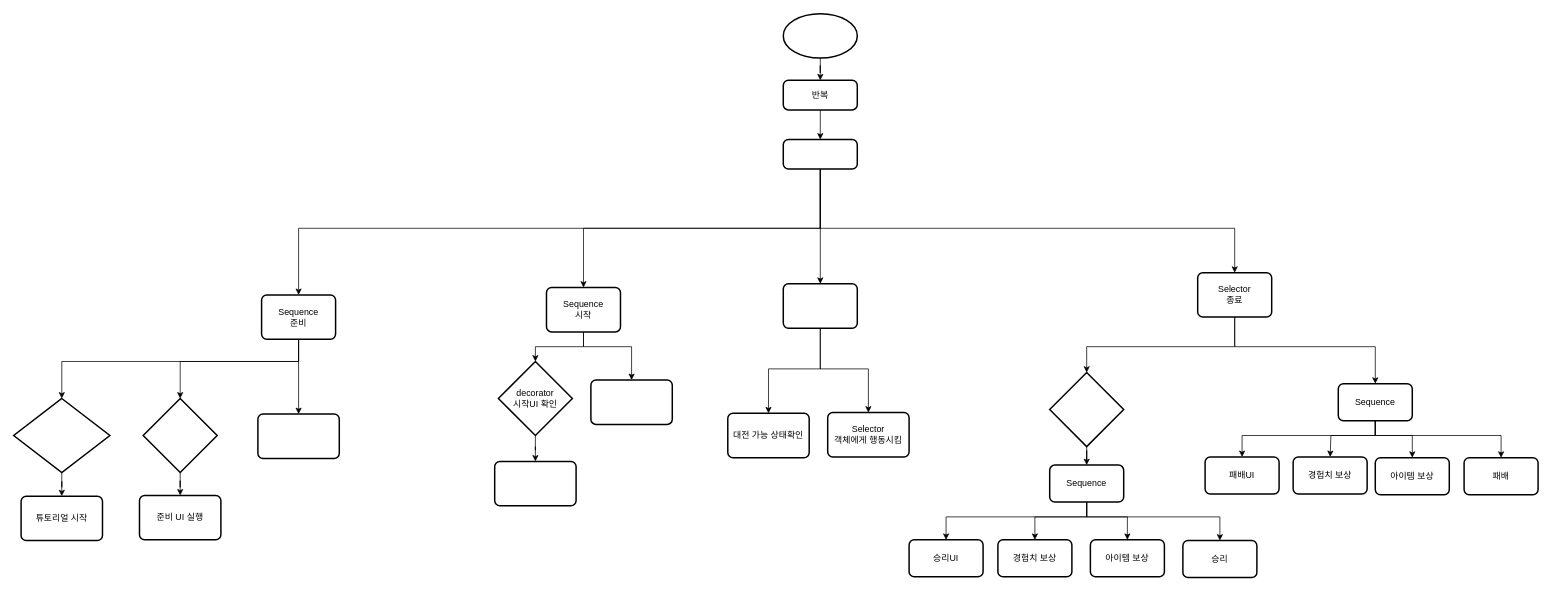
Some shapes in this 1551 by 591 pixel diagram are drawn without their labels. Here are the shapes that lost their labels. From the top down, the centre of each, then its label:
point (820, 35): root
point (820, 153): selector
point (820, 306): Sequence 전투
point (631, 402): 턴 분배
point (1086, 409): decorator 승리하였나
point (61, 435): 튜토리얼 했었나
point (180, 435): decorator 준비UI 확인
point (298, 436): 배치 완료 확인
point (535, 483): 시작 UI 실행
